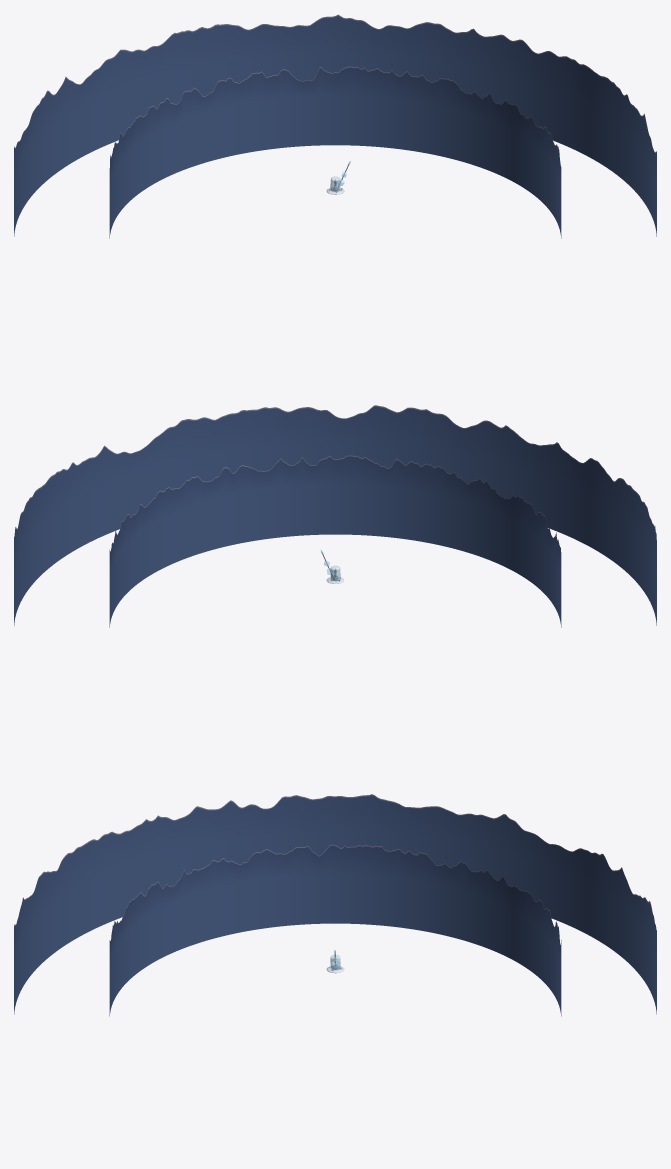
File: pins.glb
3 renders of one model, top to bottom at view 1: azimuth 30°, elevation 25°; view 2: azimuth 150°, elevation 25°; view 3: azimuth 270°, elevation 25°, orthographic.
Parts seen in each view (by area): view 1: horizon-far, horizon-near; view 2: horizon-far, horizon-near; view 3: horizon-far, horizon-near.
Boxes of the visible parts, x1,y1,x2,y2 form: horizon-far: (14, 14, 656, 236); horizon-near: (109, 66, 561, 238); horizon-far: (14, 405, 656, 625); horizon-near: (109, 455, 561, 627); horizon-far: (14, 794, 656, 1014); horizon-near: (109, 844, 561, 1016).
Size of the model in its own units: 470 by 72.98 by 470.
21 materials, 20 textured.
